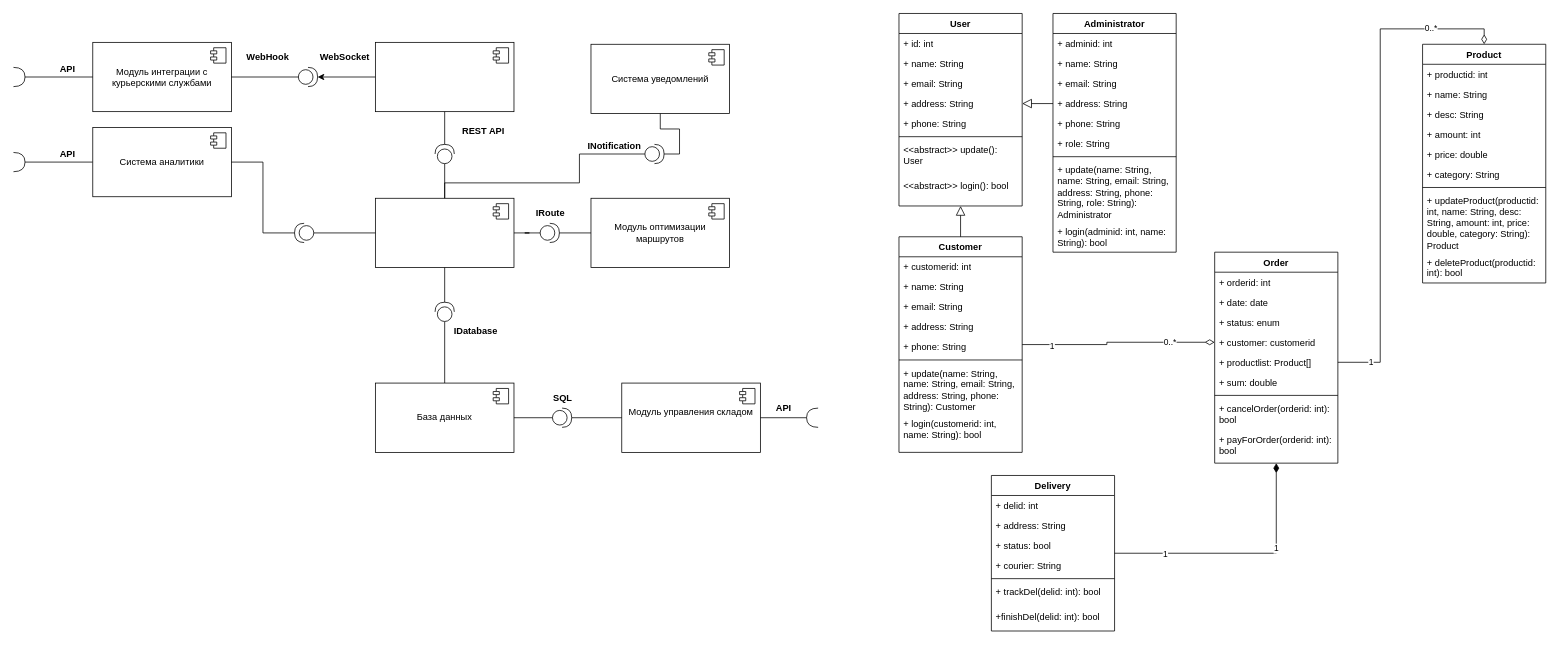
The diagram is 1559 pixels wide and 647 high, and some of its shapes have lost their labels. Each missing label, with the centre of its shape:
"Backend" goes at (x=444, y=233).
"Frontend" goes at (x=444, y=77).
